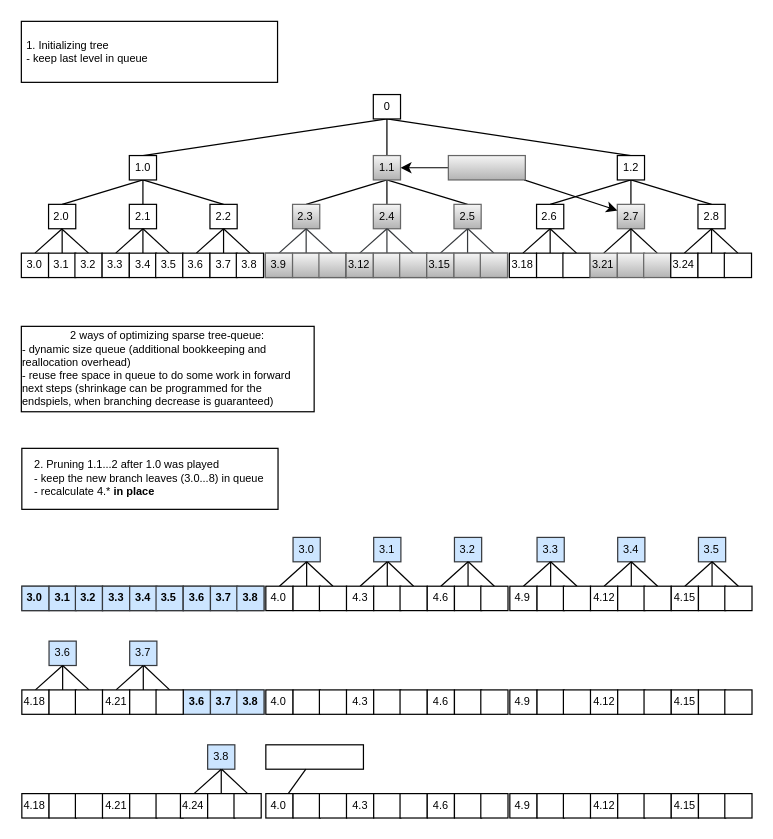
Image size: 773x839. Some labels were removed from this diagram. The centre of each missing label's shape, as x and y in pixels:
dead branch: pixel 486 167
queue new head: pixel 314 756
